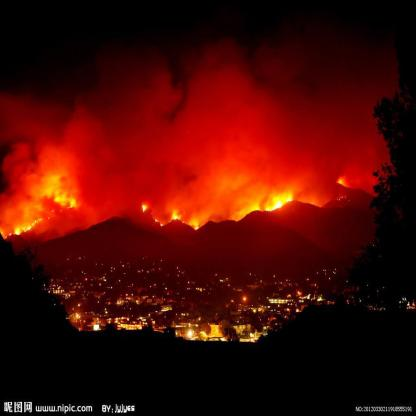fire: (138, 184, 306, 228), (6, 151, 84, 245), (337, 163, 367, 190)
other: (51, 273, 304, 346)
